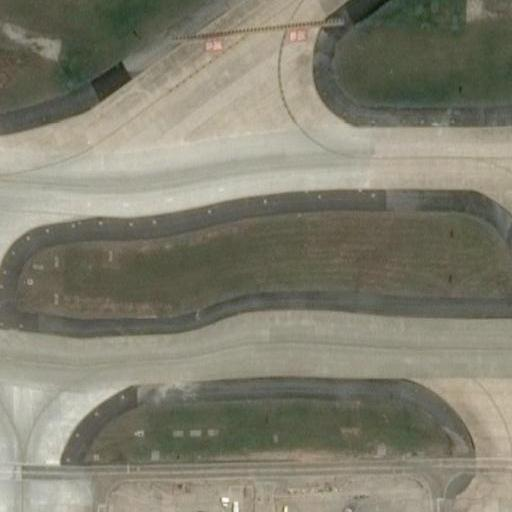Aircraft: (115, 507, 200, 512)
